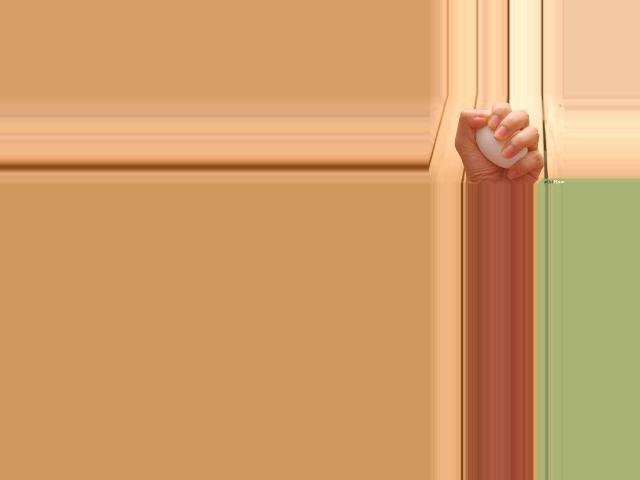egg: (475, 121, 528, 169)
